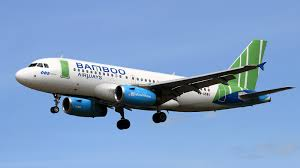maybay_dansu: (14, 37, 291, 124)
